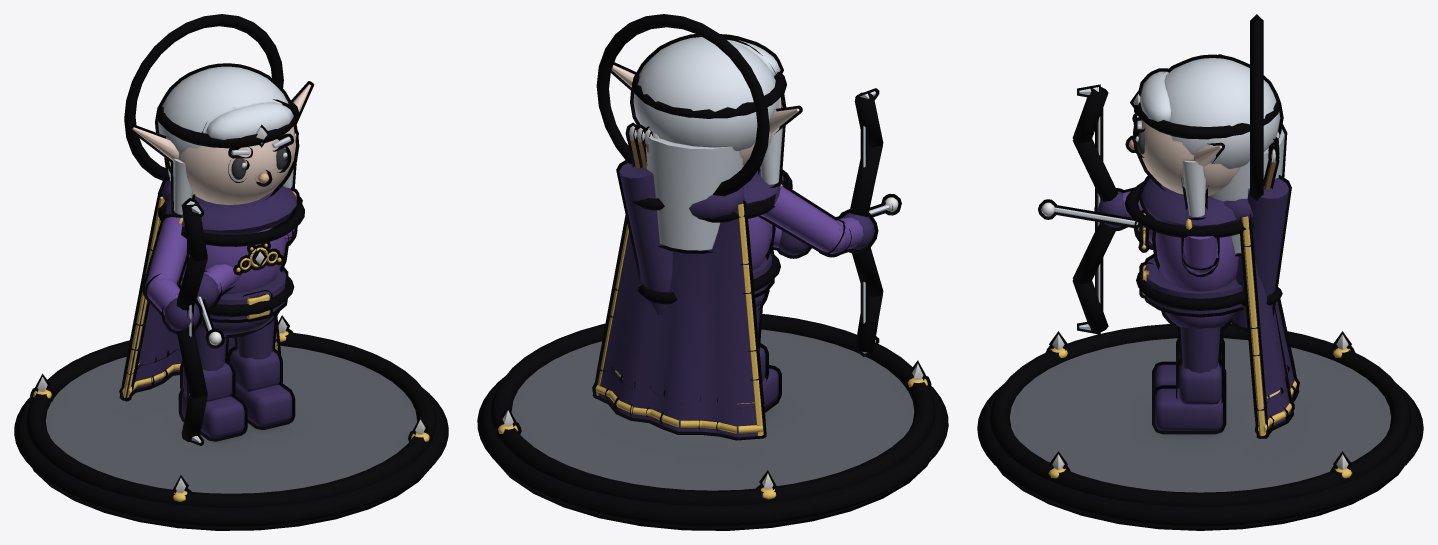
Rendered from moon_archer_s4.fbx.
3 views of the same model, side by side, from view 1: azimuth 30°, elevation 25°; view 2: azimuth 150°, elevation 25°; view 3: azimuth 270°, elevation 25° (orthographic). The views are drawn at different scales.
Visible parts, largest first — view 1: moon_archer_s4; view 2: moon_archer_s4; view 3: moon_archer_s4.
Boxes of the visible parts, x1,y1,x2,y2 form: moon_archer_s4: (14,14,448,530); moon_archer_s4: (477,14,948,530); moon_archer_s4: (977,14,1423,530).
Bounding box in the file's own units: 1.58 × 1.63 × 1.58.
Materials: 2 (1 with a texture image).
